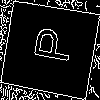P: (25, 23, 73, 65)
